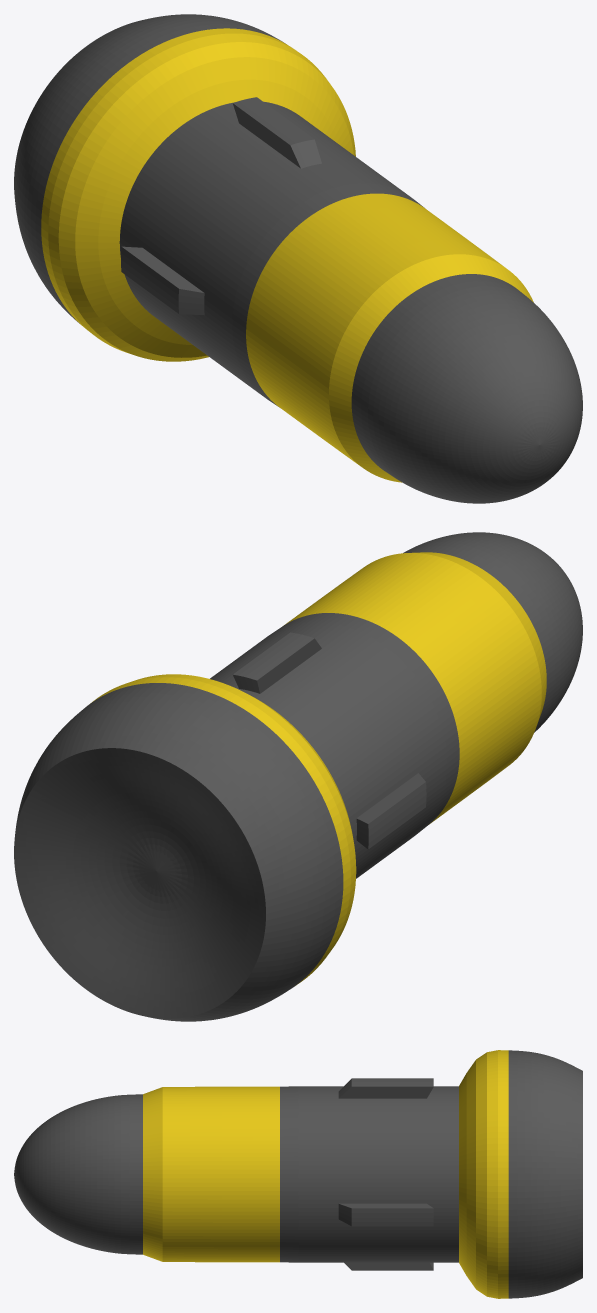
File: Misile.fbx
3 views of the same model, one above another, from view 1: azimuth 30°, elevation 25°; view 2: azimuth 150°, elevation 25°; view 3: azimuth 270°, elevation 25° (orthographic). The views are drawn at different scales.
Visible parts, largest first — view 1: Sphere; view 2: Sphere; view 3: Sphere.
Boxes of the visible parts, <box> form: Sphere: <box>14,14,582,503</box>; Sphere: <box>14,532,582,1021</box>; Sphere: <box>14,1050,582,1298</box>.
Size of the model in its own units: 2.98 by 2.98 by 6.81.
